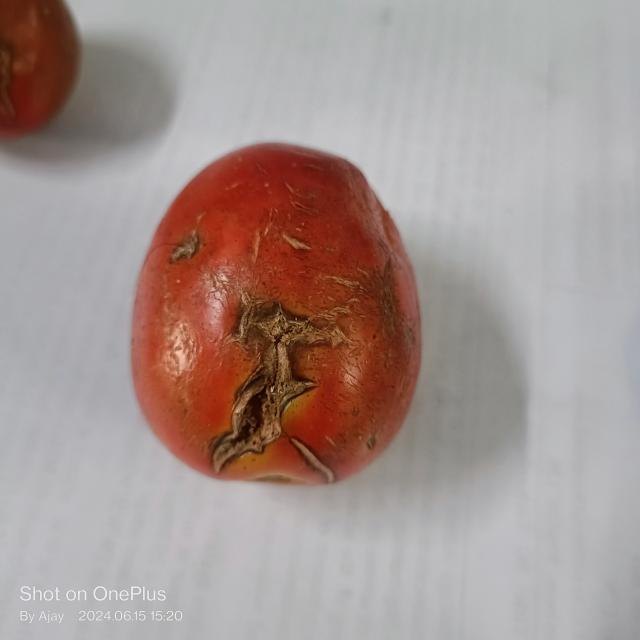tomato_cracking: (187, 281, 376, 481)
